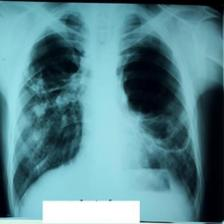tuberculosis: (7, 2, 201, 201)
